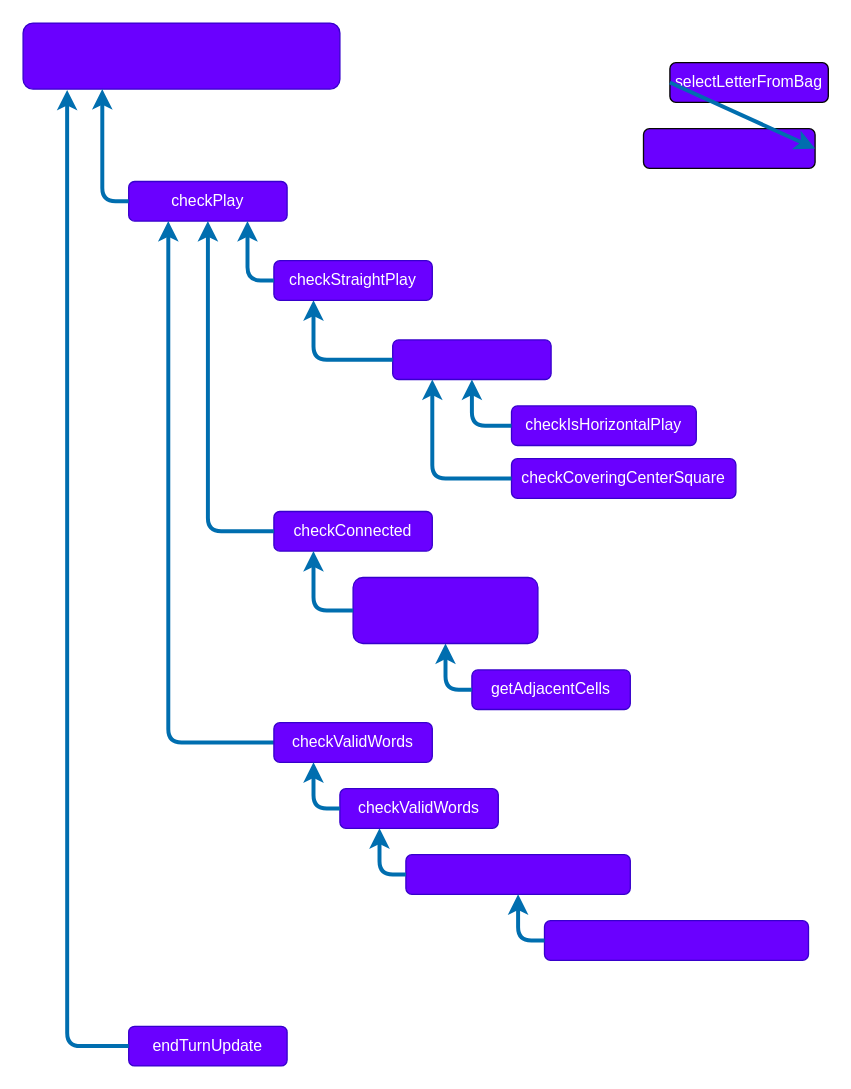
Image size: 851x1089. Some labels were removed from this diagram. The centre of each missing label's shape, as x and y in pixels:
"adjacent cells include at least one previously placed letter" belongs at (x=445, y=610).
"checkFirstPlay" belongs at (x=471, y=359).
"getNewWordsCreatedByPlay" belongs at (x=517, y=873).
"selectLettersFromBag" belongs at (x=728, y=147).
"submitPlay" belongs at (x=181, y=55).
